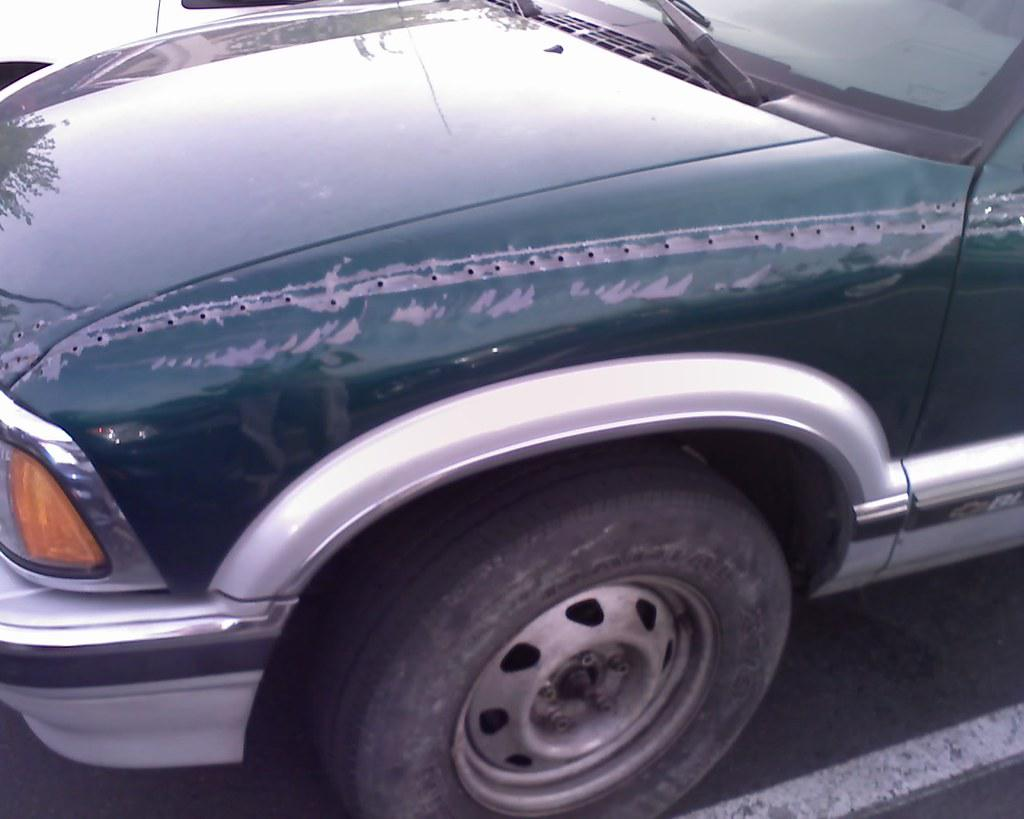fender-dent: (130, 170, 1023, 519)
